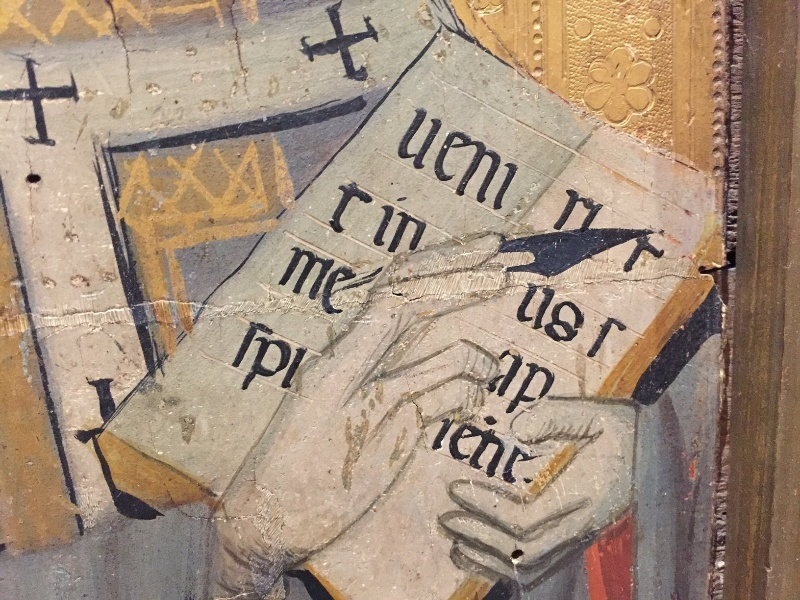text: (417, 103, 432, 221), (433, 103, 448, 221), (449, 103, 464, 221), (465, 103, 480, 221), (481, 103, 496, 221), (497, 103, 512, 221), (545, 342, 561, 434), (257, 317, 272, 410), (273, 317, 288, 410), (289, 317, 304, 410), (513, 342, 528, 434), (529, 342, 544, 434), (465, 403, 480, 495), (481, 403, 496, 495), (497, 403, 512, 495), (513, 403, 528, 495), (451, 403, 464, 495), (305, 243, 320, 320), (321, 243, 336, 320), (337, 243, 352, 320), (545, 277, 560, 353), (561, 277, 576, 353), (531, 277, 544, 353), (337, 175, 352, 238), (353, 175, 368, 238), (513, 103, 521, 221), (385, 201, 400, 263), (401, 201, 416, 263), (292, 243, 304, 320), (577, 277, 589, 353), (577, 188, 592, 248), (593, 312, 608, 363), (609, 312, 624, 363), (625, 231, 640, 279), (641, 231, 656, 279), (417, 201, 428, 263), (326, 175, 336, 238), (593, 188, 603, 248), (506, 342, 512, 434), (657, 231, 667, 279), (251, 317, 256, 410), (305, 317, 310, 410), (529, 403, 534, 495), (369, 175, 376, 238), (569, 188, 576, 248), (353, 243, 358, 320), (587, 312, 592, 363), (625, 312, 630, 363), (622, 231, 624, 279)
